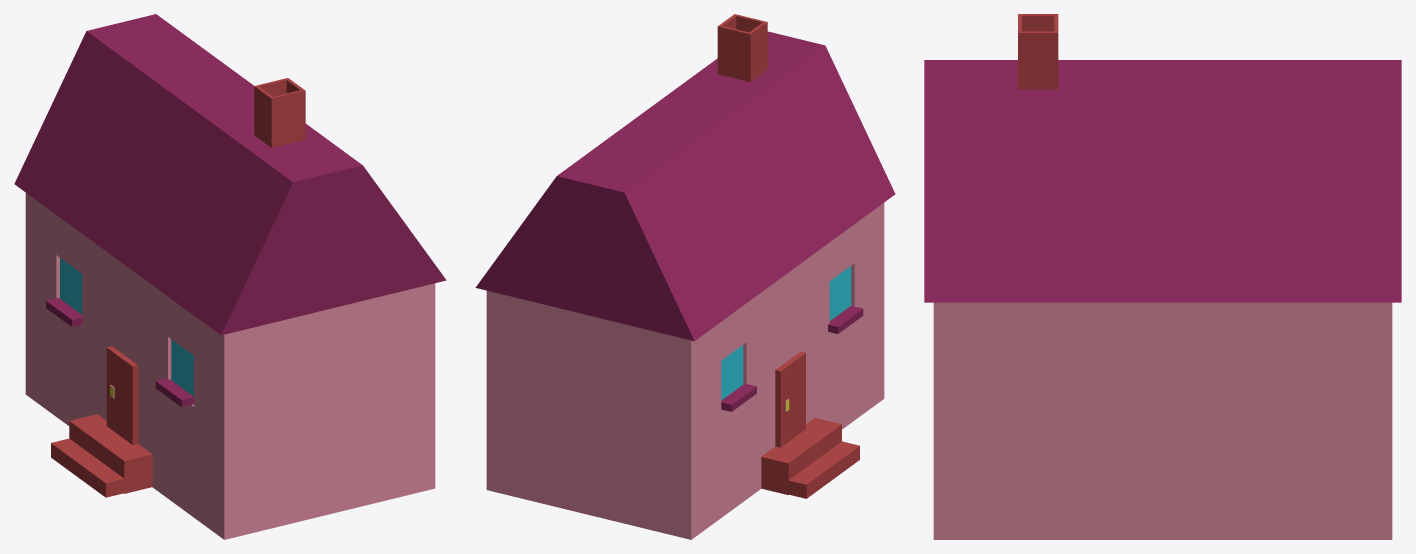
Rendered from domeklalek.fbx.
The picture shows the model from 3 angles, left to right: view 1: azimuth 30°, elevation 25°; view 2: azimuth 150°, elevation 25°; view 3: azimuth 270°, elevation 25°; orthographic projection. The views are drawn at different scales.
Parts seen in each view (by area): view 1: Cube.010; view 2: Cube.010; view 3: Cube.010.
Boxes of the visible parts, x1,y1,x2,y2 form: Cube.010: (14, 14, 446, 539); Cube.010: (475, 14, 895, 539); Cube.010: (924, 14, 1401, 539).
Bounding box in the file's own units: 1696 × 2410 × 2293.
